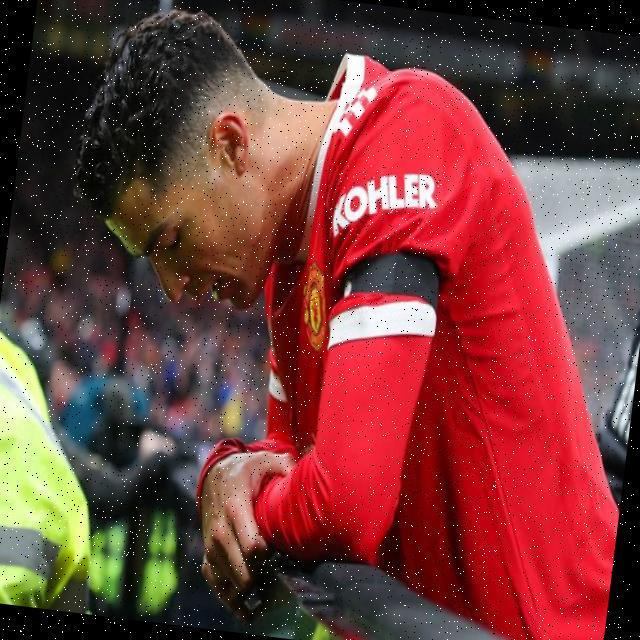Kohler: (327, 161, 441, 246)
